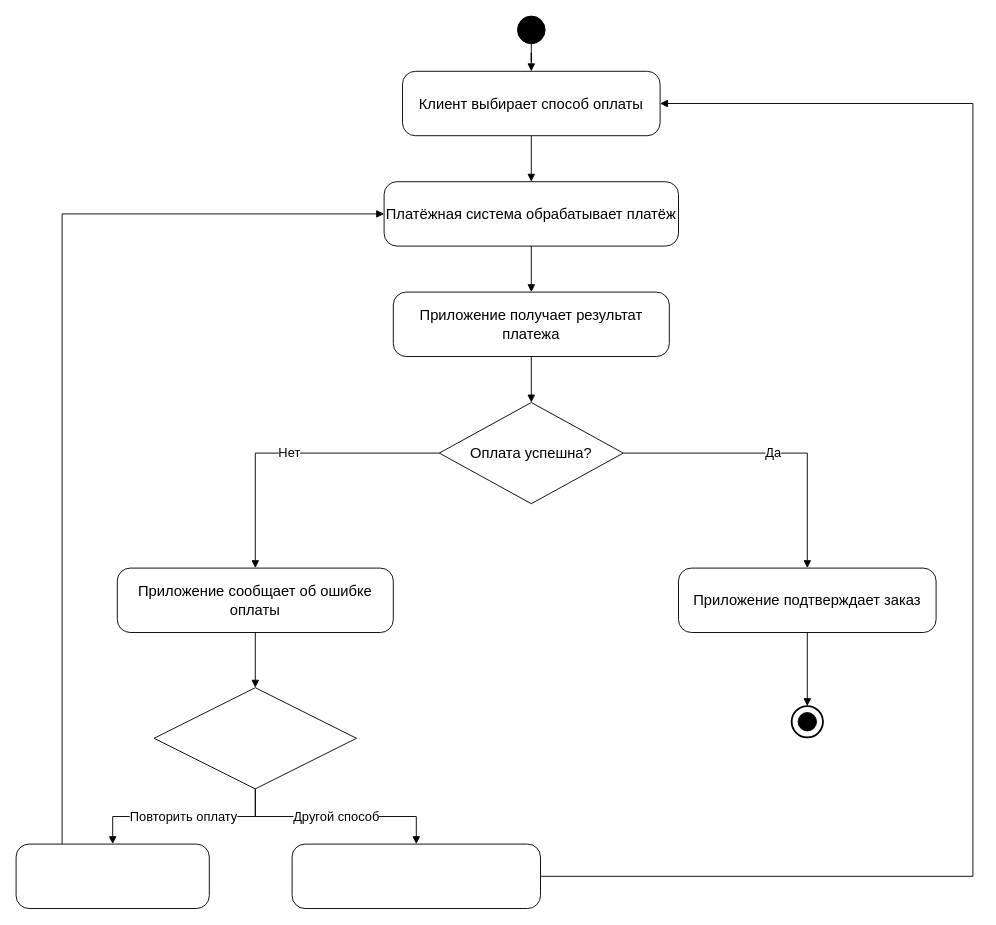
Image size: 996x925. Some labels were removed from this diagram. The shapes that lost their labels are listed below. From the top down, each one's centre as x and y in pixels, then its label:
At [254,738]: "Что делает клиент?".
At [112,875]: "Повторяет оплату".
At [415,875]: "Выбирает другой способ оплаты".
